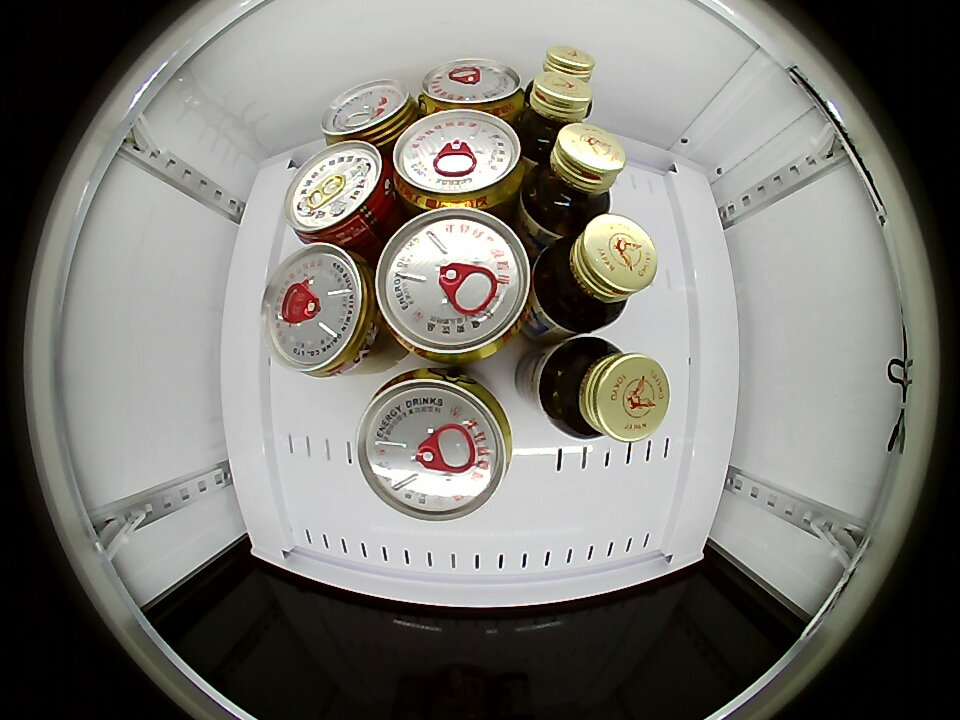dongpeng: (375, 208, 532, 364), (355, 369, 513, 521), (392, 109, 524, 213), (419, 58, 525, 118)
hongniu: (260, 244, 378, 379)
hongniu2: (322, 78, 417, 149)
libaojian: (532, 214, 659, 334), (537, 336, 669, 443), (523, 122, 627, 233), (522, 73, 593, 156), (526, 48, 595, 98)
wangzainiunai: (285, 141, 397, 248)
